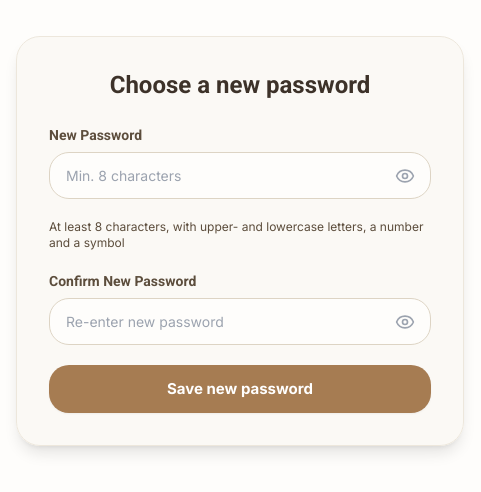
Scenario: ResetPasswordPage › shows Supabase's reason when it refuses
In the password field with placeholder "Min. 8 characters": [240, 176] box [49,152,431,199], type "Newpass1!"
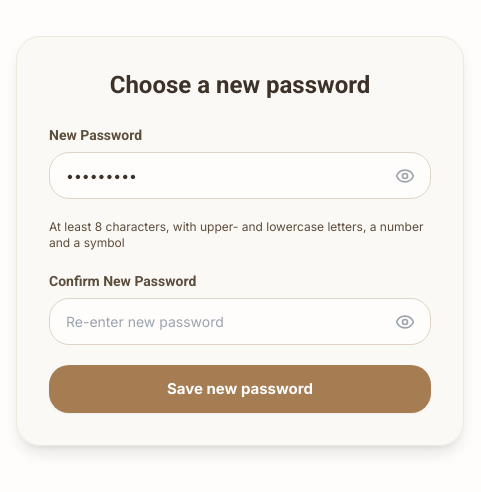
In the password field with placeholder "Re-enter new password": [240, 322] box [49,298,431,345], type "Newpass1!"
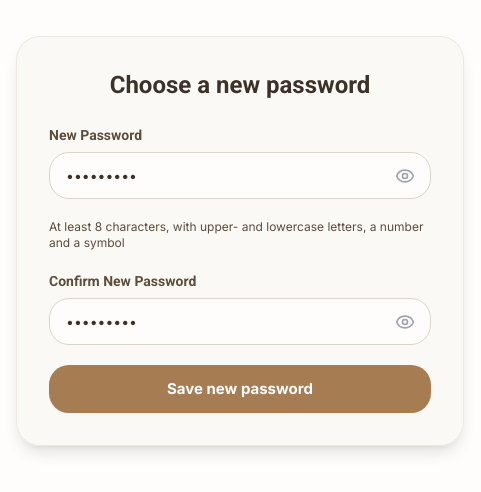
Click the button "Save new password": [240, 389] box [49,365,431,413]
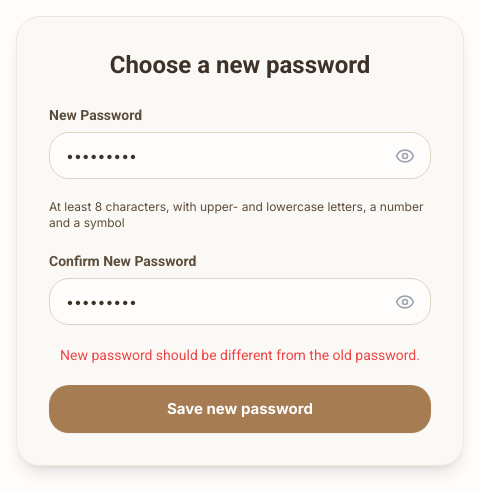
Now the text "New password should be different from the old password." is shown, box [49,345,431,365]
